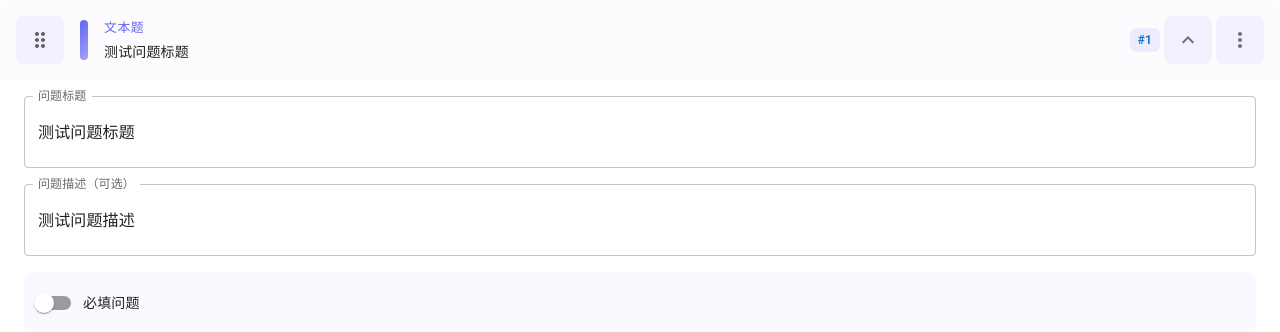
Scenario: QuestionCard › 测试菜单打开
Click the 2nd button.
click(1240, 40)  # box [1216,16,1264,64]
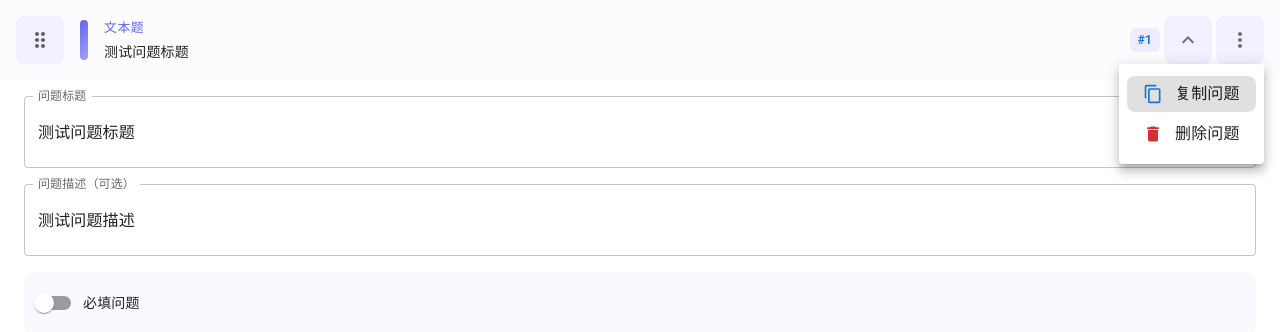
Check: the menu item "复制问题" is shown, box [1127,76,1256,112]
Check: the menu item "删除问题" is shown, box [1143,124,1240,144]
